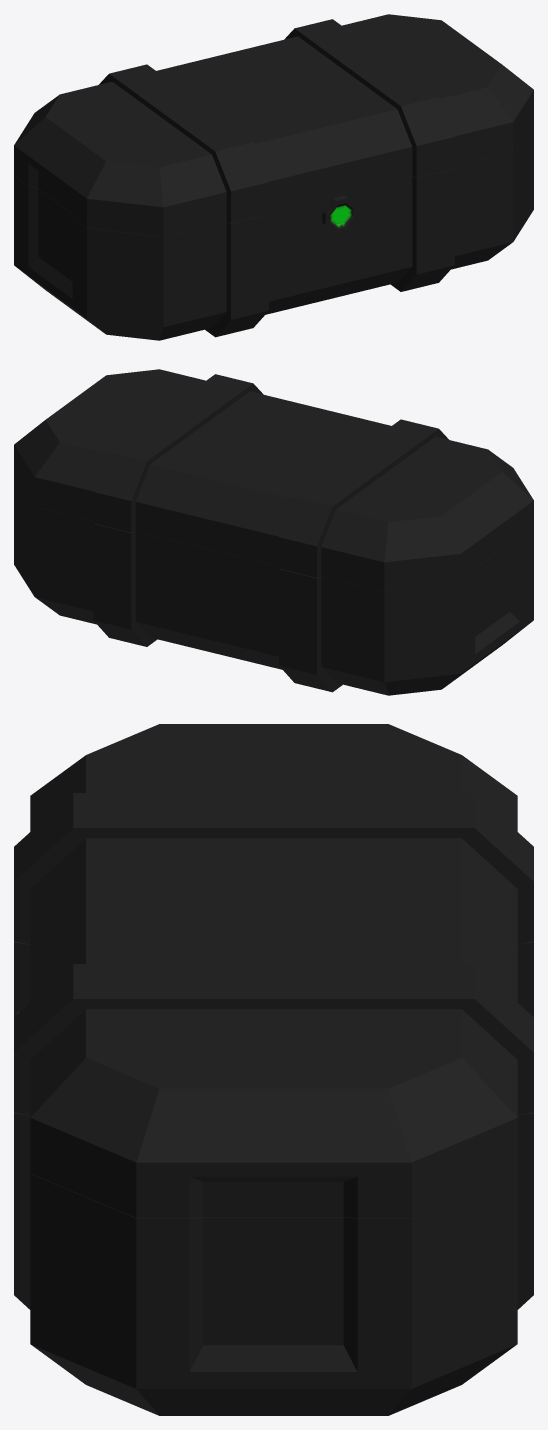
The model's file is Chest.fbx.
3 views of the same model, one above another, from view 1: azimuth 30°, elevation 25°; view 2: azimuth 150°, elevation 25°; view 3: azimuth 270°, elevation 25° (orthographic). The views are drawn at different scales.
Visible parts, largest first — view 1: Chest; view 2: Chest; view 3: Chest.
Boxes of the visible parts, x1,y1,x2,y2 form: Chest: [14, 14, 533, 340]; Chest: [14, 369, 533, 695]; Chest: [14, 724, 533, 1415].
Size of the model in its own units: 0.5587 by 0.416 by 1.05.
